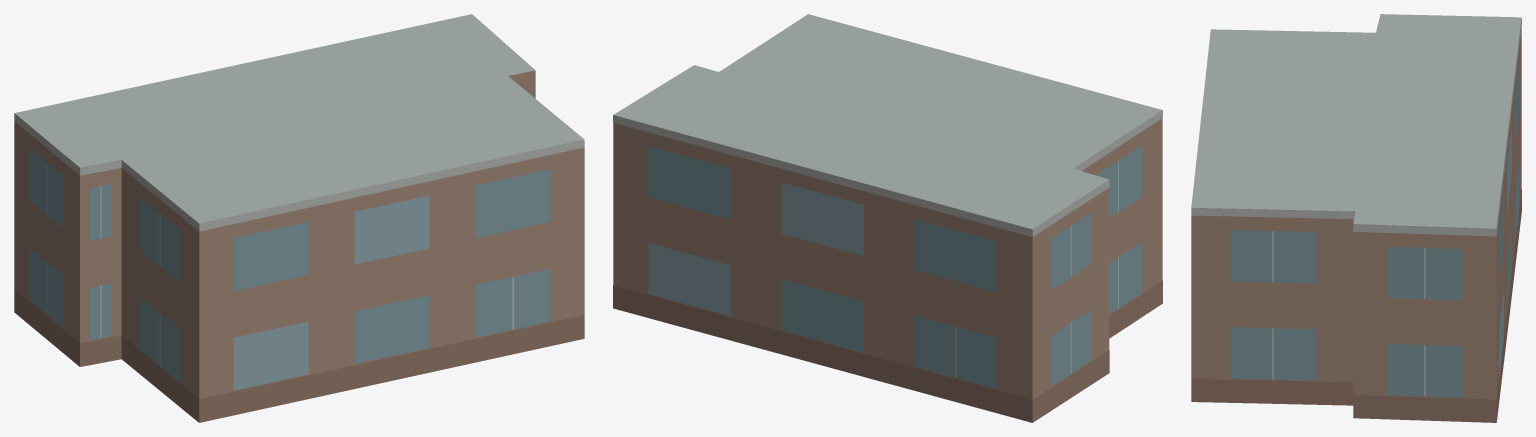
The model's file is survey-upis-32823557.glb.
3 renders of one model, left to right at view 1: azimuth 30°, elevation 25°; view 2: azimuth 150°, elevation 25°; view 3: azimuth 270°, elevation 25°, orthographic. The views are drawn at different scales.
Parts seen in each view (by area): view 1: survey-upis-32823557.tmp; view 2: survey-upis-32823557.tmp; view 3: survey-upis-32823557.tmp.
Boxes of the visible parts, x1,y1,x2,y2 form: survey-upis-32823557.tmp: [14, 14, 584, 422]; survey-upis-32823557.tmp: [613, 14, 1162, 422]; survey-upis-32823557.tmp: [1191, 14, 1521, 422].
Bounding box in the file's own units: 14.48 × 6.1 × 9.42.
